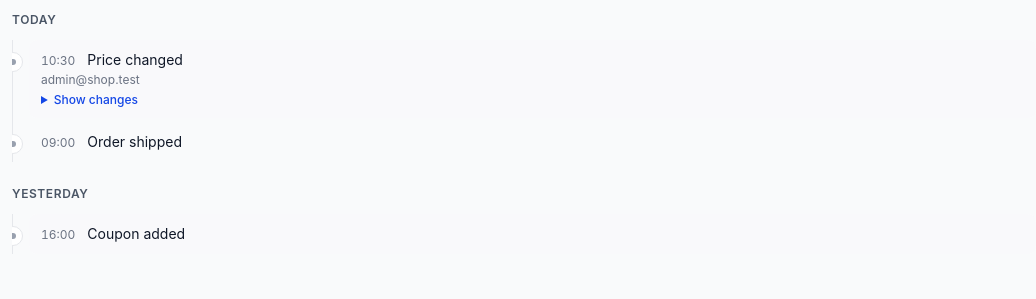
Test case: Timeline › groups entries under a date heading and can open the detail
expect the heading "Today" is shown: met, box [12, 12, 56, 27]
expect the heading "Yesterday" is shown: met, box [12, 186, 88, 201]
Click the heading "Show changes": coordinates (96, 100) [54, 92, 138, 107]
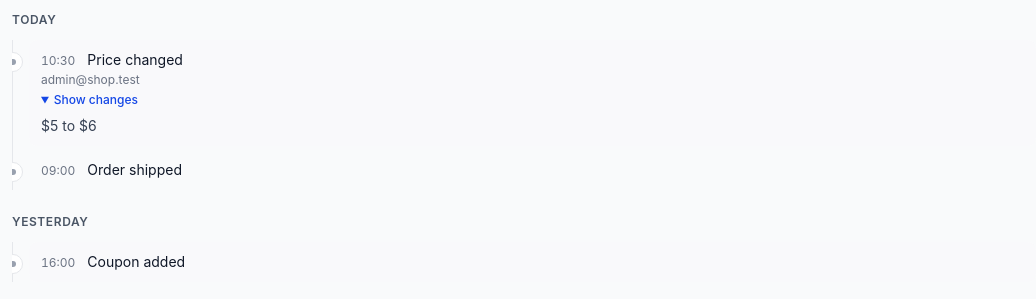
expect the text "$5 to $6" is shown: met, box [41, 117, 97, 134]
